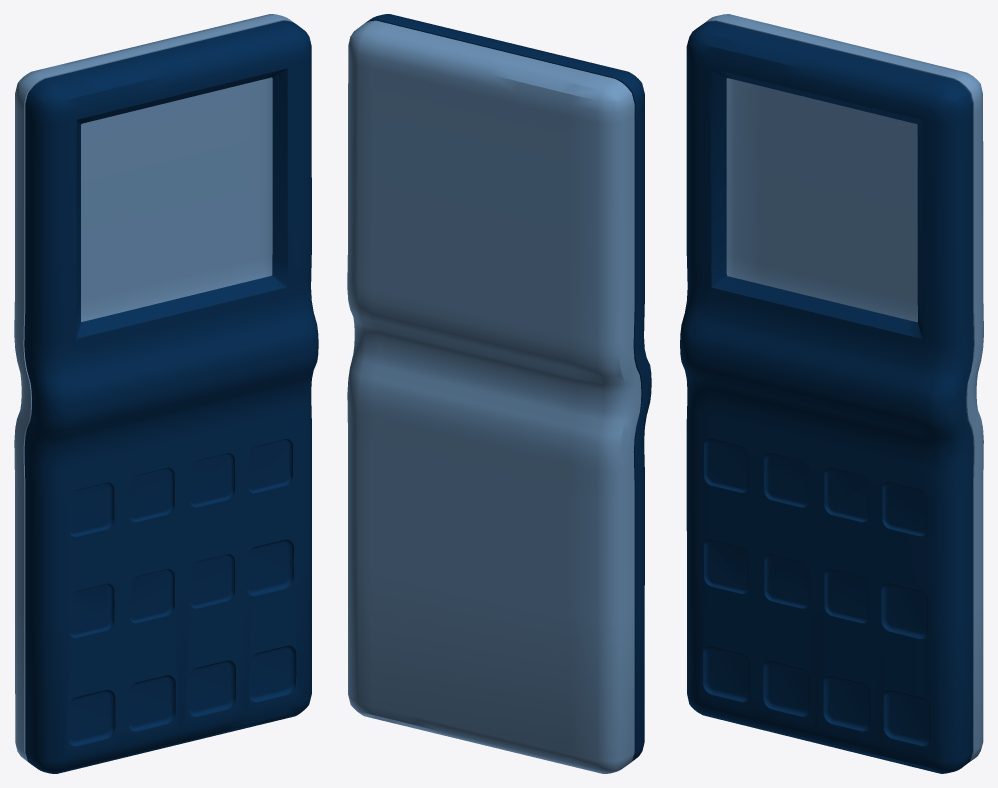
File: body.glb
The picture shows the model from 3 angles, left to right: view 1: azimuth 30°, elevation 25°; view 2: azimuth 150°, elevation 25°; view 3: azimuth 330°, elevation 25°; orthographic projection.
Visible parts, largest first — view 1: Body; view 2: Body; view 3: Body.
Part boxes in pixels (x1=…): Body: x1=14, y1=14, x2=318, y2=773; Body: x1=347, y1=14, x2=651, y2=773; Body: x1=680, y1=14, x2=983, y2=773.
Bounding box in the file's own units: 1.52 × 3.6 × 0.4166.
2 materials, 1 textured.
